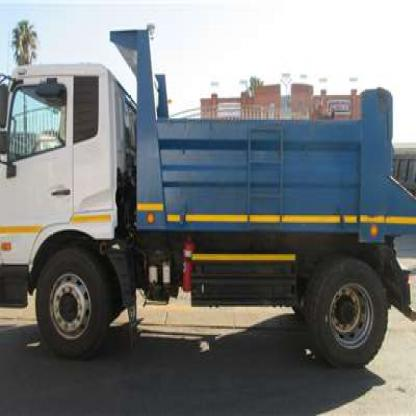dump_truck: (1, 17, 415, 379)
